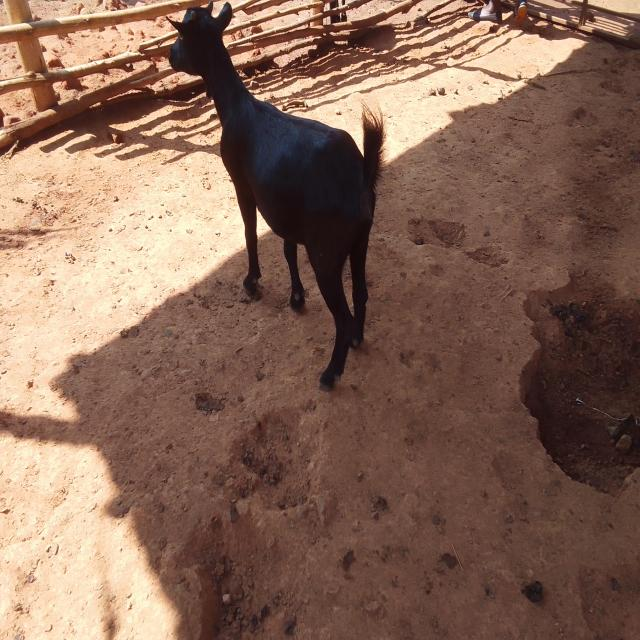goat: (144, 0, 423, 423)
